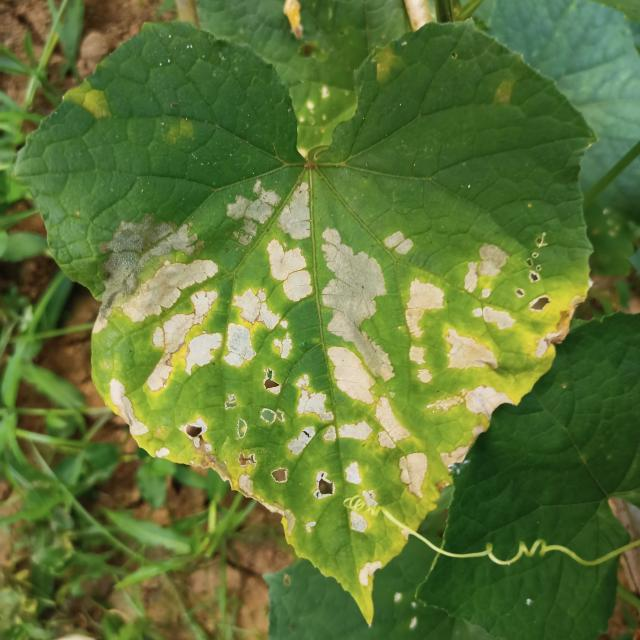disease_cucumber: (85, 180, 581, 564), (52, 72, 121, 132)
